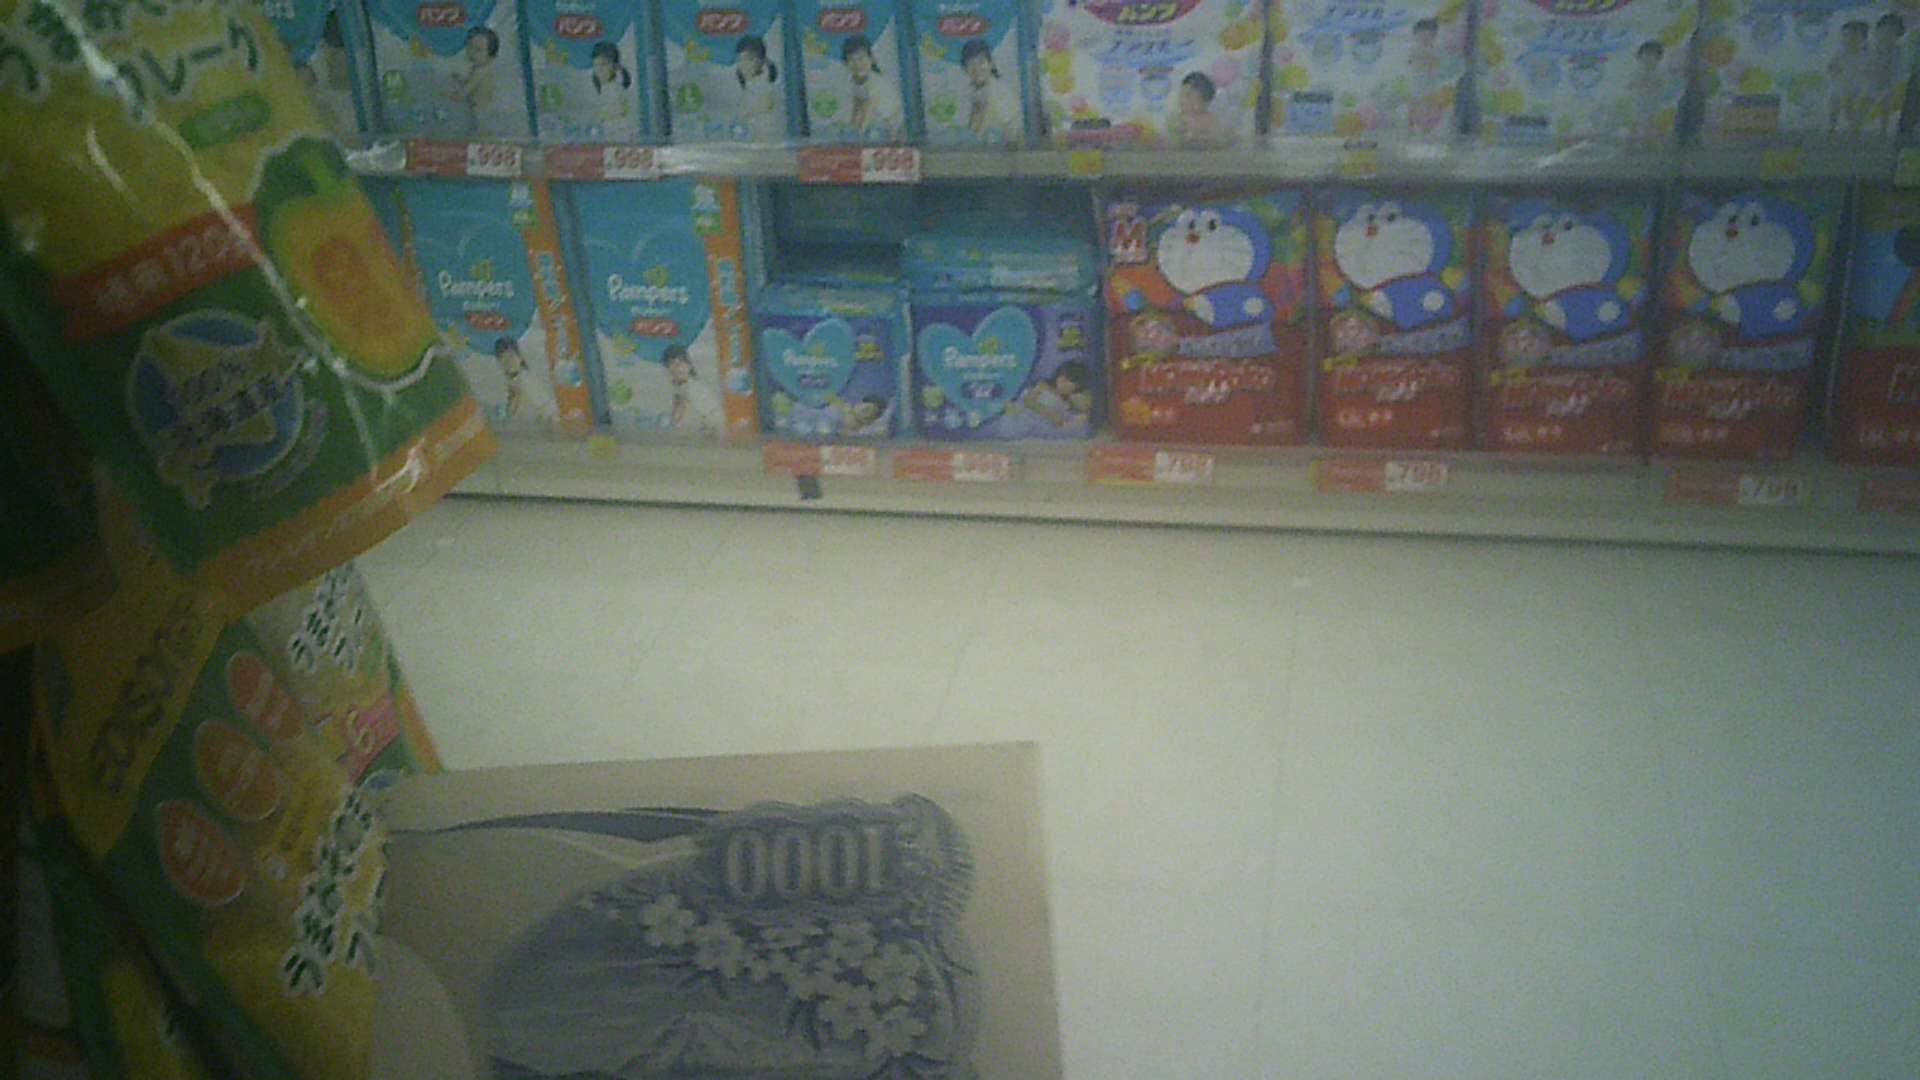1,000 Yen: (378, 756, 1062, 1067)
